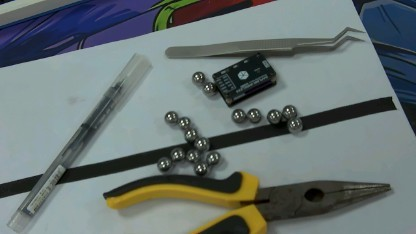ironball: (226, 104, 244, 125), (279, 101, 297, 120), (284, 117, 304, 134), (162, 104, 176, 127), (246, 106, 261, 125), (265, 105, 279, 125), (155, 155, 171, 170), (198, 79, 214, 94), (192, 164, 207, 179), (205, 147, 218, 164), (184, 127, 197, 142), (175, 113, 189, 126), (189, 69, 201, 82), (170, 148, 182, 160), (192, 136, 208, 145), (187, 150, 197, 161)
